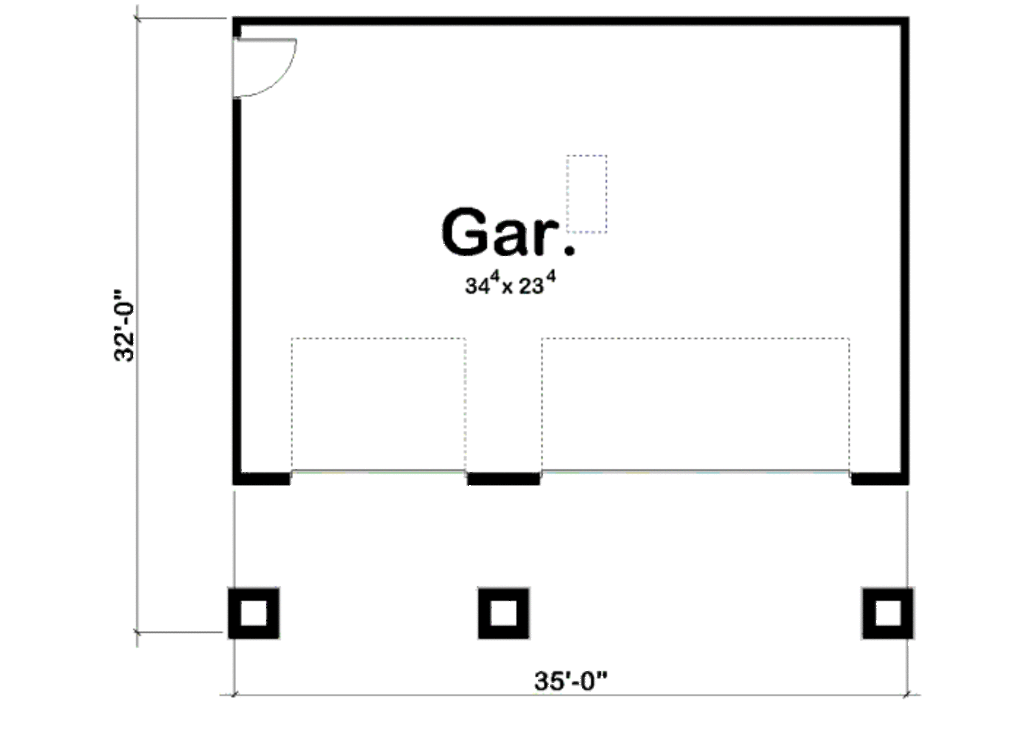door: (212, 28, 323, 103)
